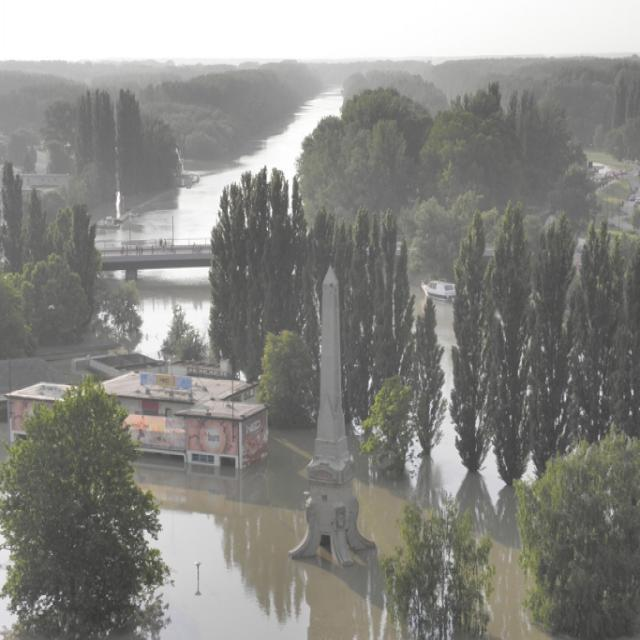flood: (135, 431, 407, 640), (97, 89, 343, 244), (486, 498, 555, 640), (433, 299, 468, 496), (137, 268, 210, 356), (356, 477, 408, 556), (481, 451, 505, 502), (412, 286, 427, 316)
house: (131, 376, 273, 466)
